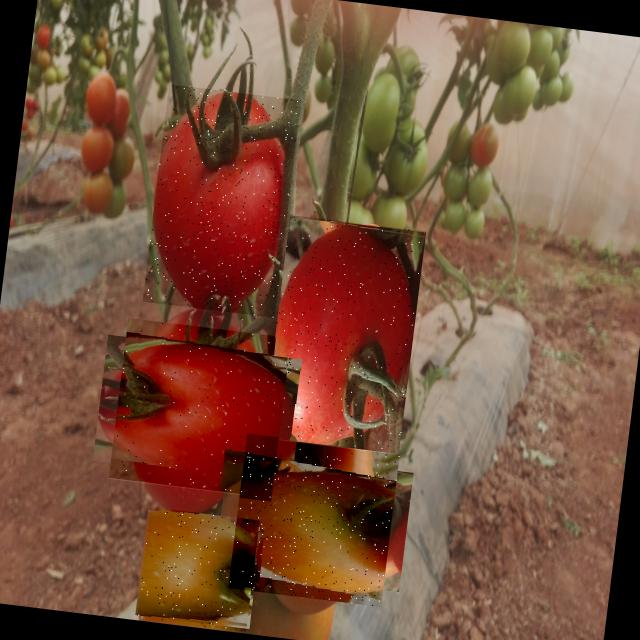Ripe Tomato: (262, 214, 426, 453), (142, 84, 301, 318), (107, 318, 290, 501)
Unripe Tomato: (228, 436, 399, 606), (136, 506, 259, 632)
